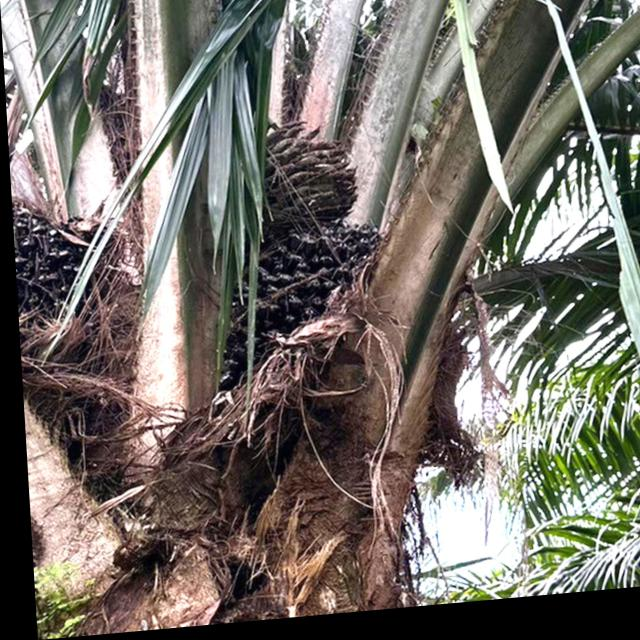unripe: (195, 207, 401, 417)
